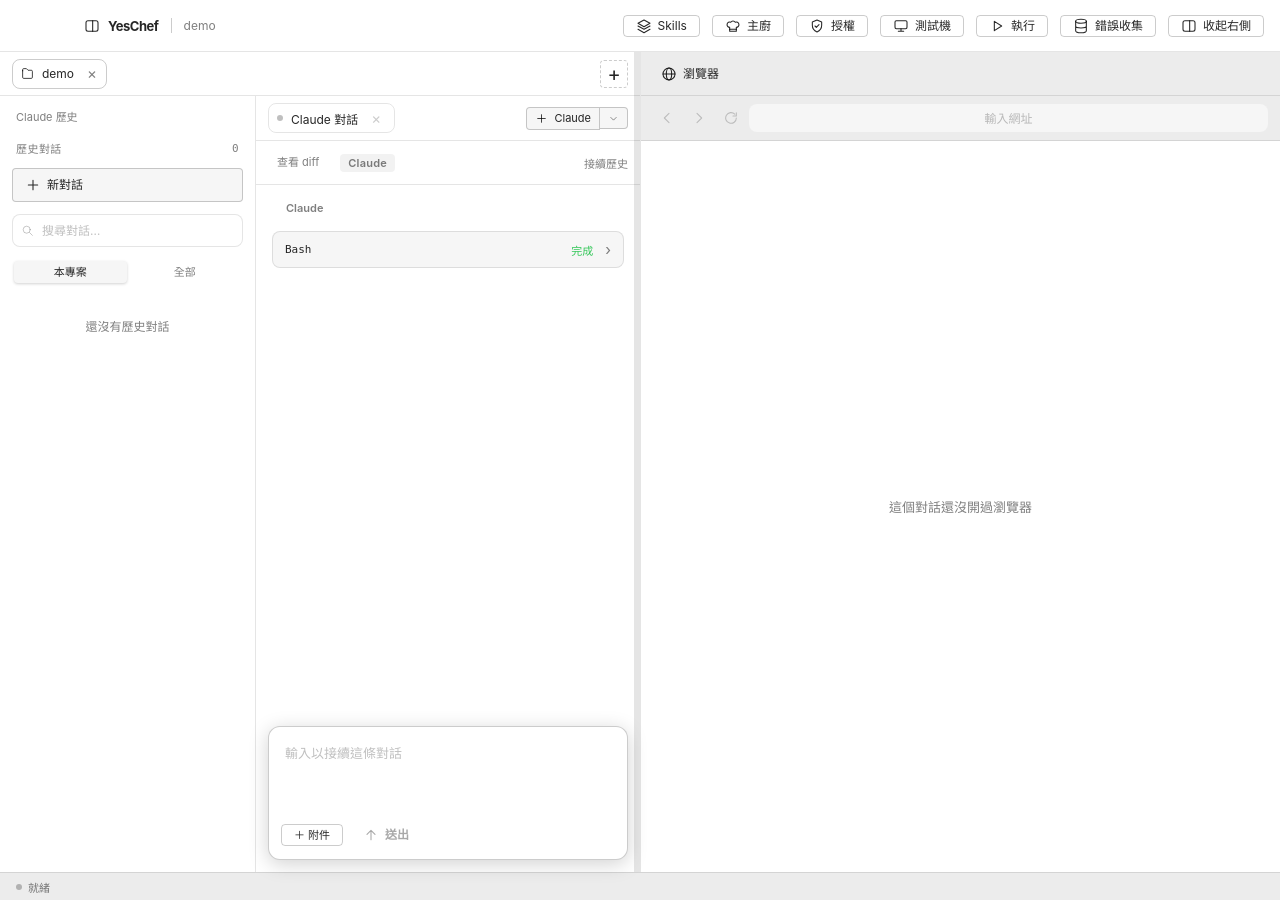
Test: App › viewing 時工具卡片展開後顯示歷史對話沒有原始輸出
This screenshot has width=1280, height=900.
Click the button with class "tool-head" at {"x": 298, "y": 250}, box [273,232,623,267]
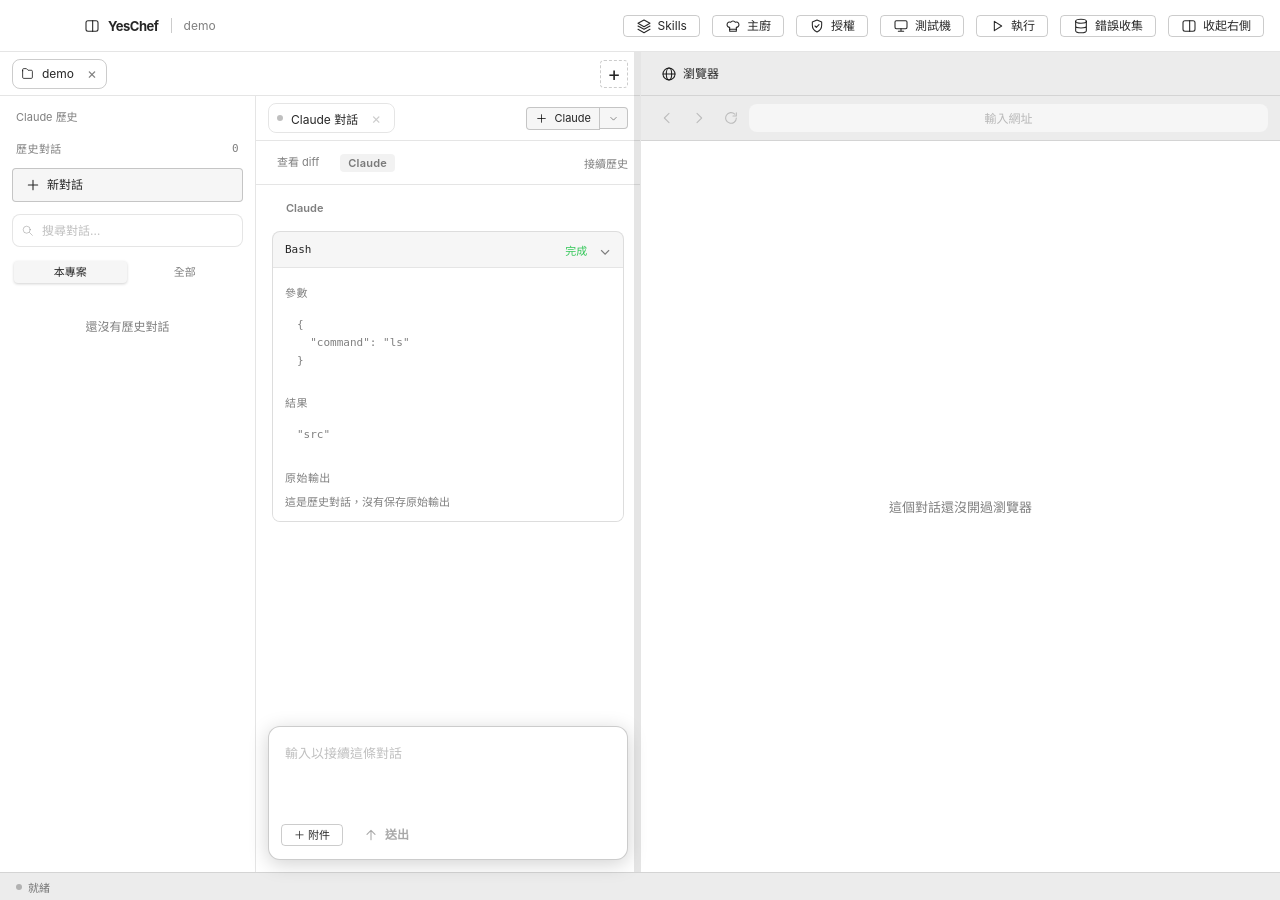
Check: the text with class "tool-raw-absent" reads "這是歷史對話，沒有保存原始輸出", box [285,495,450,509]
